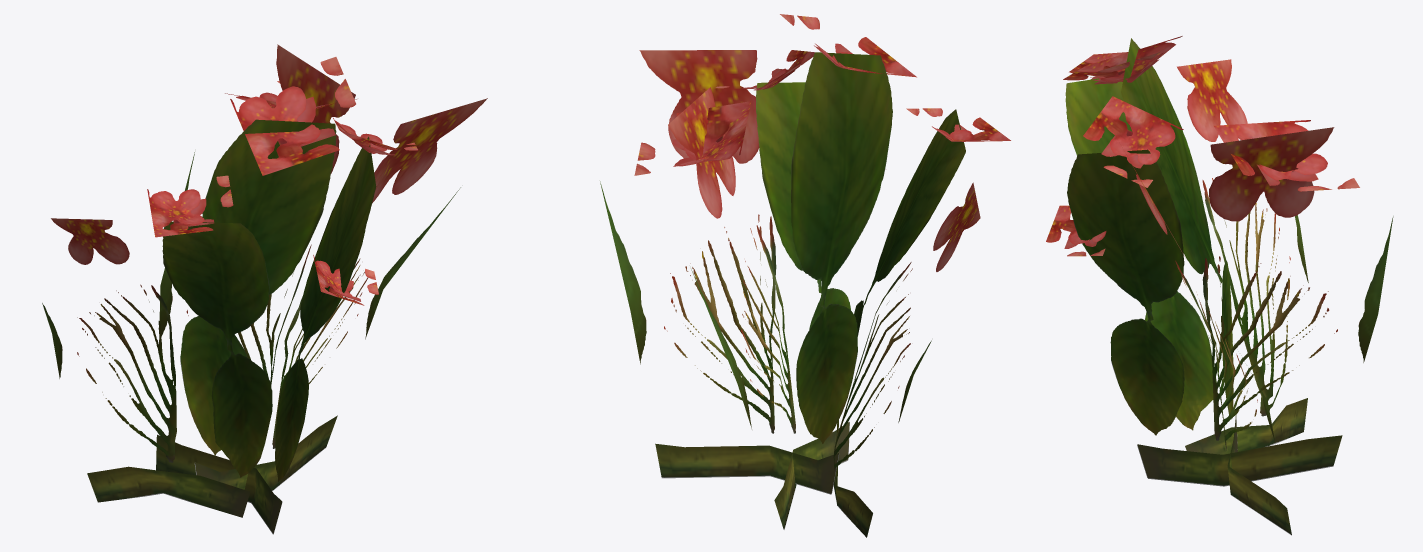
Rendered from Scene_cao_006.FBX.
3 views of the same model, side by side, from view 1: azimuth 30°, elevation 25°; view 2: azimuth 150°, elevation 25°; view 3: azimuth 270°, elevation 25° (orthographic). The views are drawn at different scales.
Parts seen in each view (by area): view 1: Scene_cao_006; view 2: Scene_cao_006; view 3: Scene_cao_006.
Boxes of the visible parts, <box> form: Scene_cao_006: <box>42,44,487,534</box>; Scene_cao_006: <box>600,14,1010,537</box>; Scene_cao_006: <box>1046,36,1393,535</box>.
Size of the model in its own units: 116 by 106 by 76.58.
